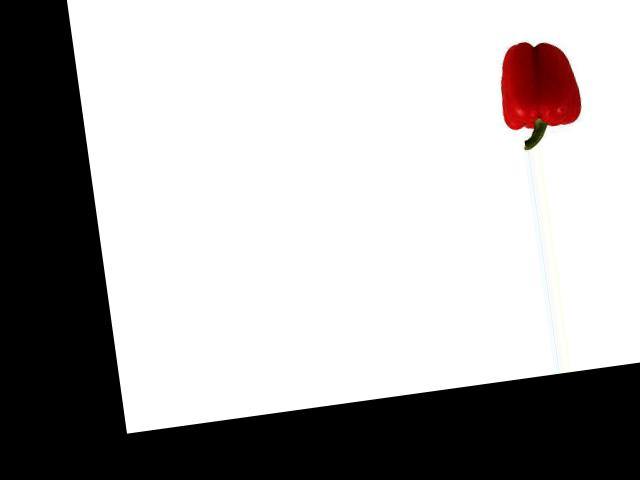bell_pepper: (490, 33, 597, 152)
